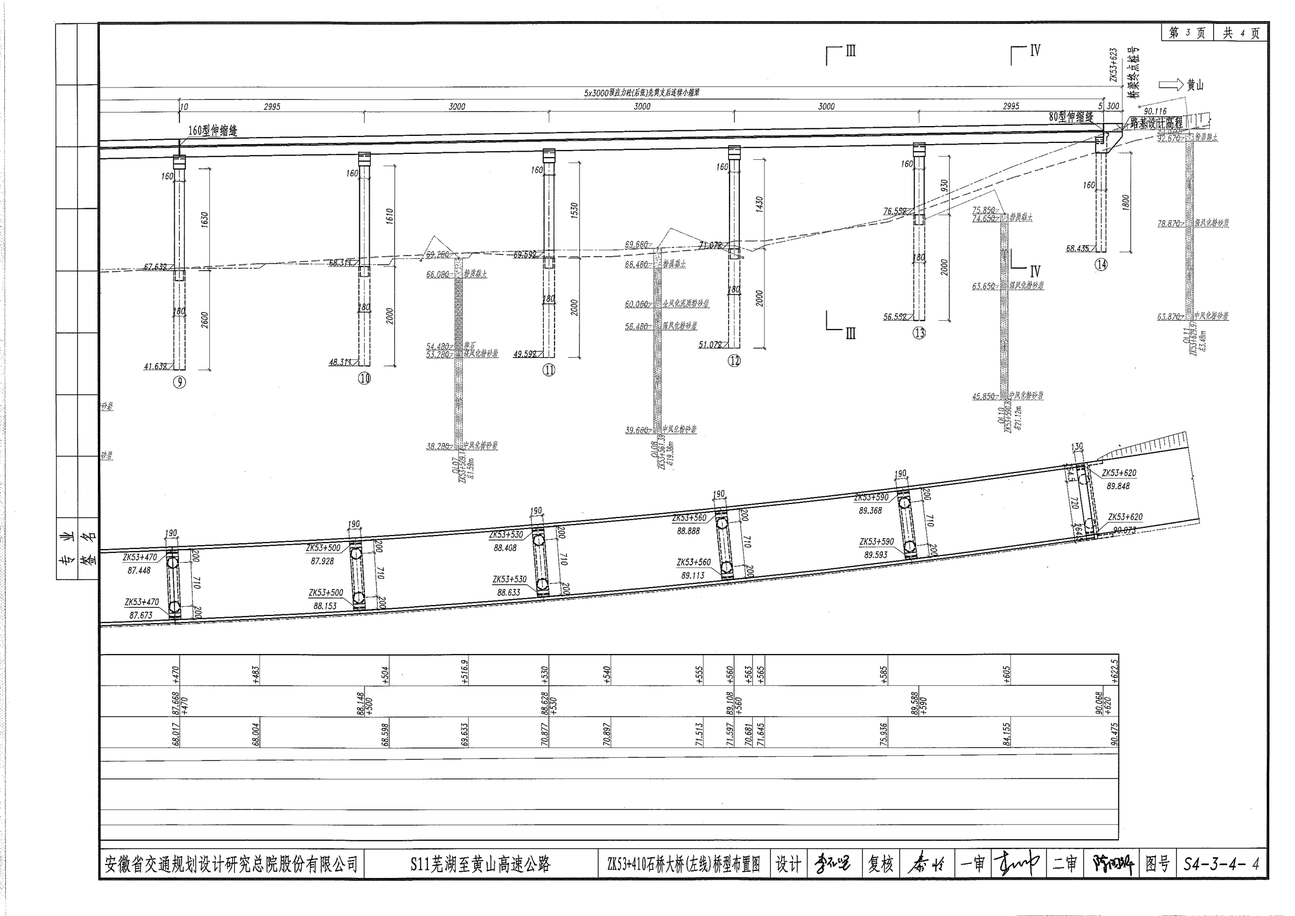A: (68, 35, 1250, 397)
